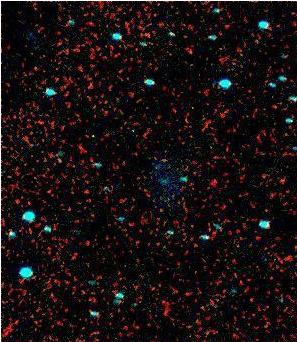star: (174, 34, 204, 64)
